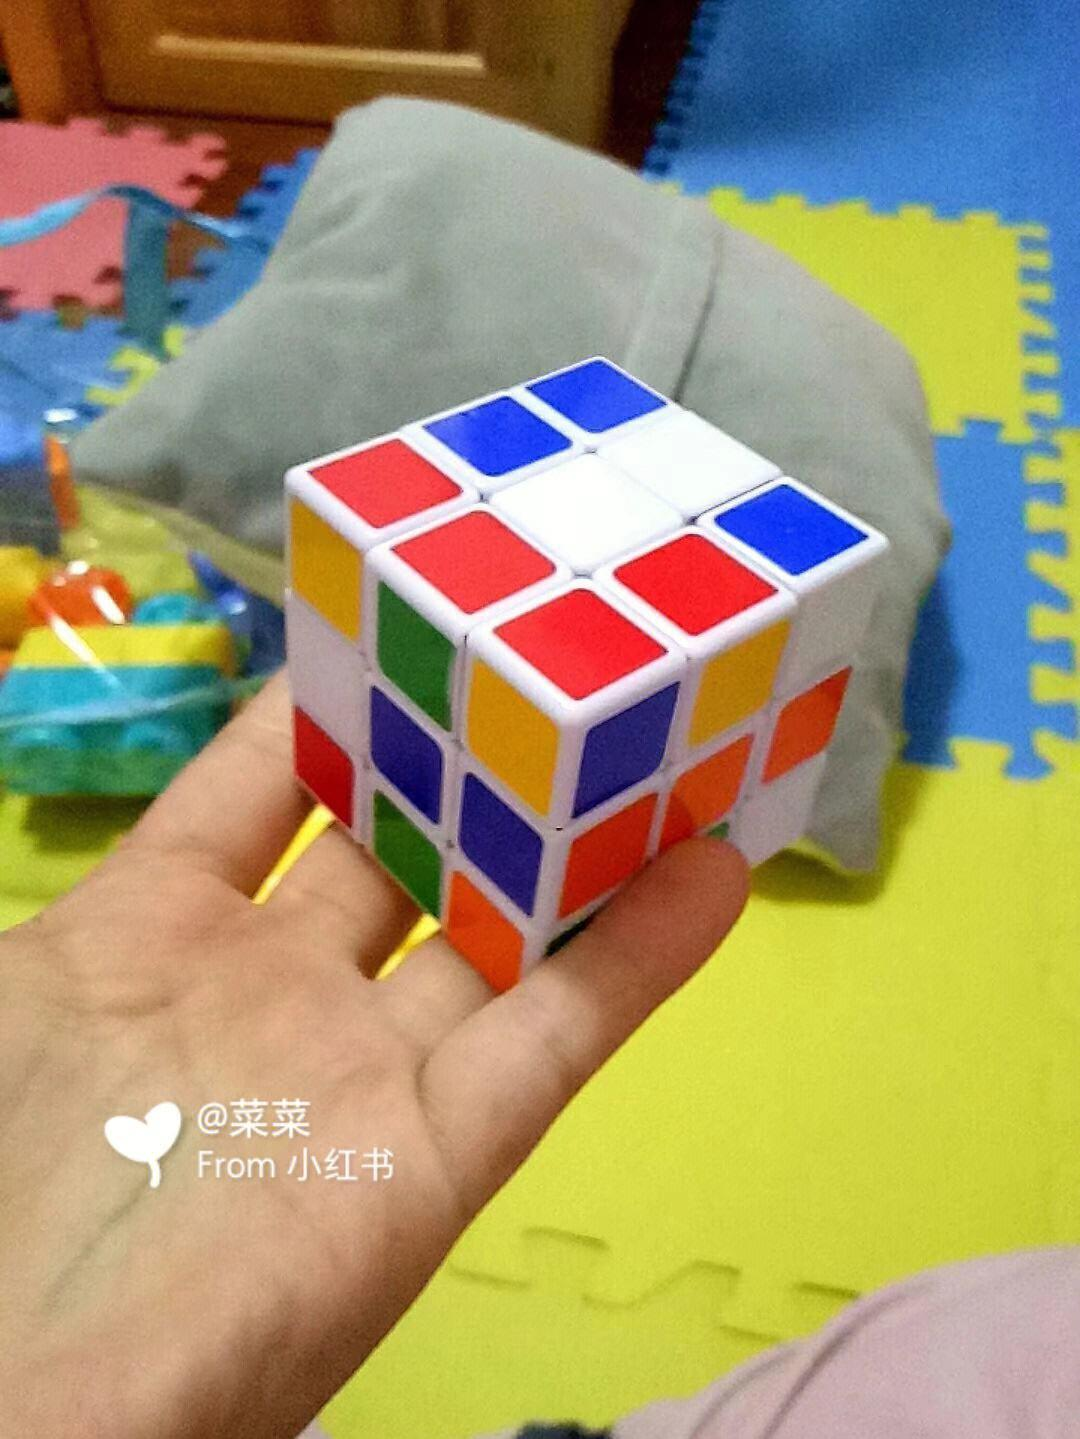cube: (210, 304, 960, 1022)
